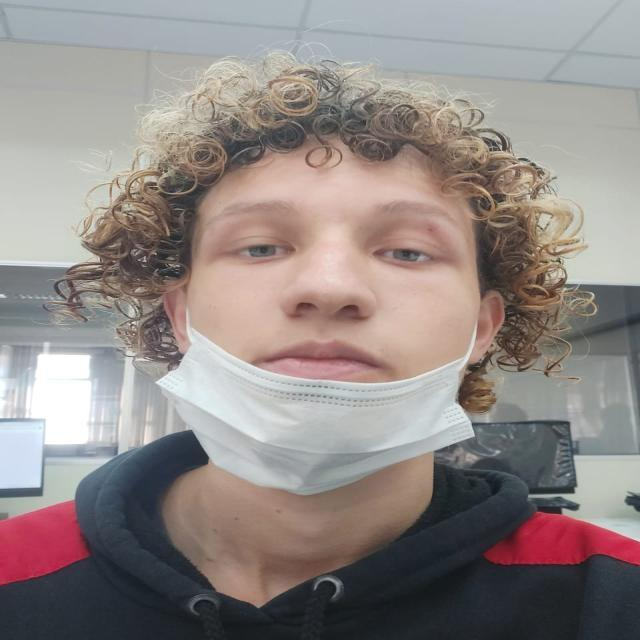hairnet: (187, 162, 477, 479)
